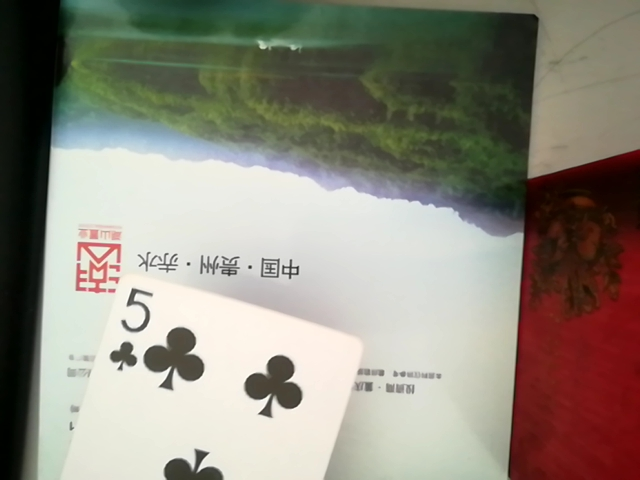mh 5: (55, 271, 362, 479)
